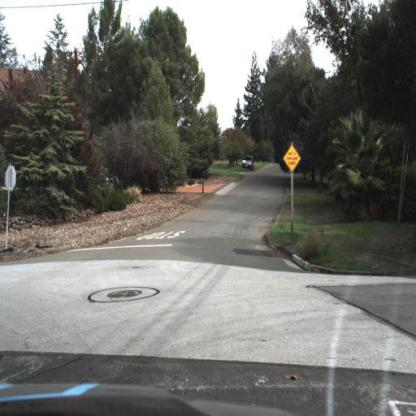car: (240, 152, 256, 174)
